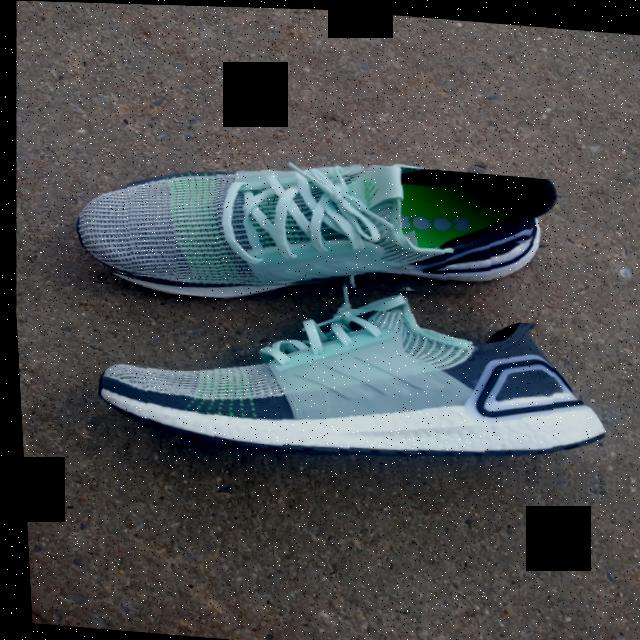shoe: (34, 284, 640, 493), (48, 138, 614, 312)
